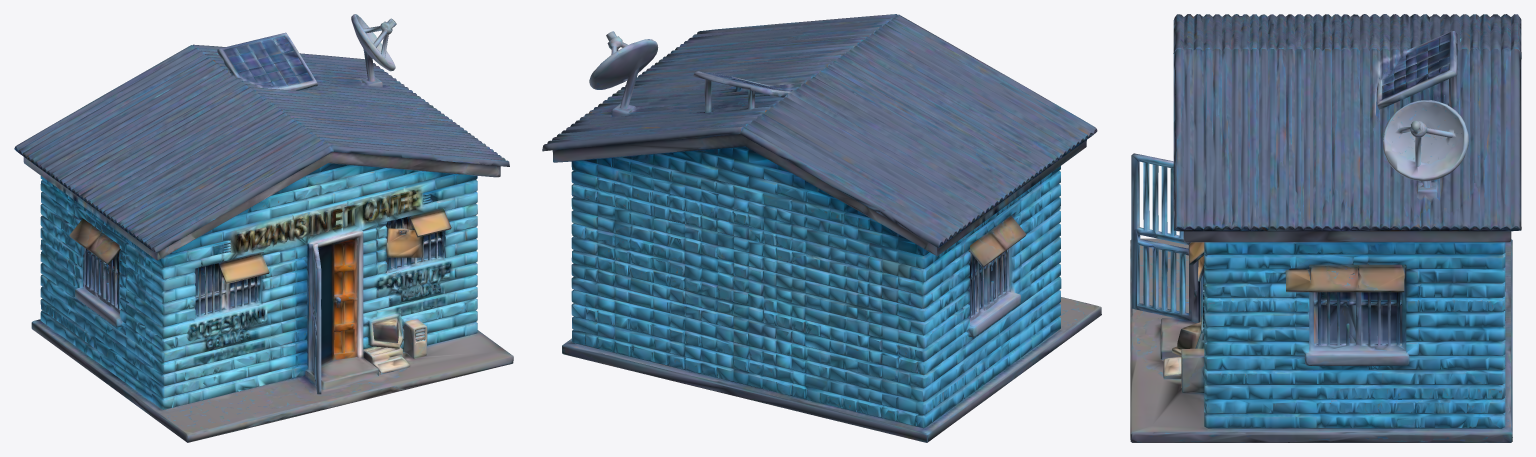
The model's file is InternetCafe.glb.
3 renders of one model, left to right at view 1: azimuth 30°, elevation 25°; view 2: azimuth 150°, elevation 25°; view 3: azimuth 270°, elevation 25°, orthographic. The views are drawn at different scales.
Parts seen in each view (by area): view 1: node_0; view 2: node_0; view 3: node_0.
Part boxes in pixels (<box>): node_0: <box>14,14,513,442</box>; node_0: <box>542,14,1101,442</box>; node_0: <box>1130,14,1521,442</box>.
Size of the model in its own units: 0.8635 by 0.6125 by 0.6738.
Materials: 1 (1 with a texture image).
